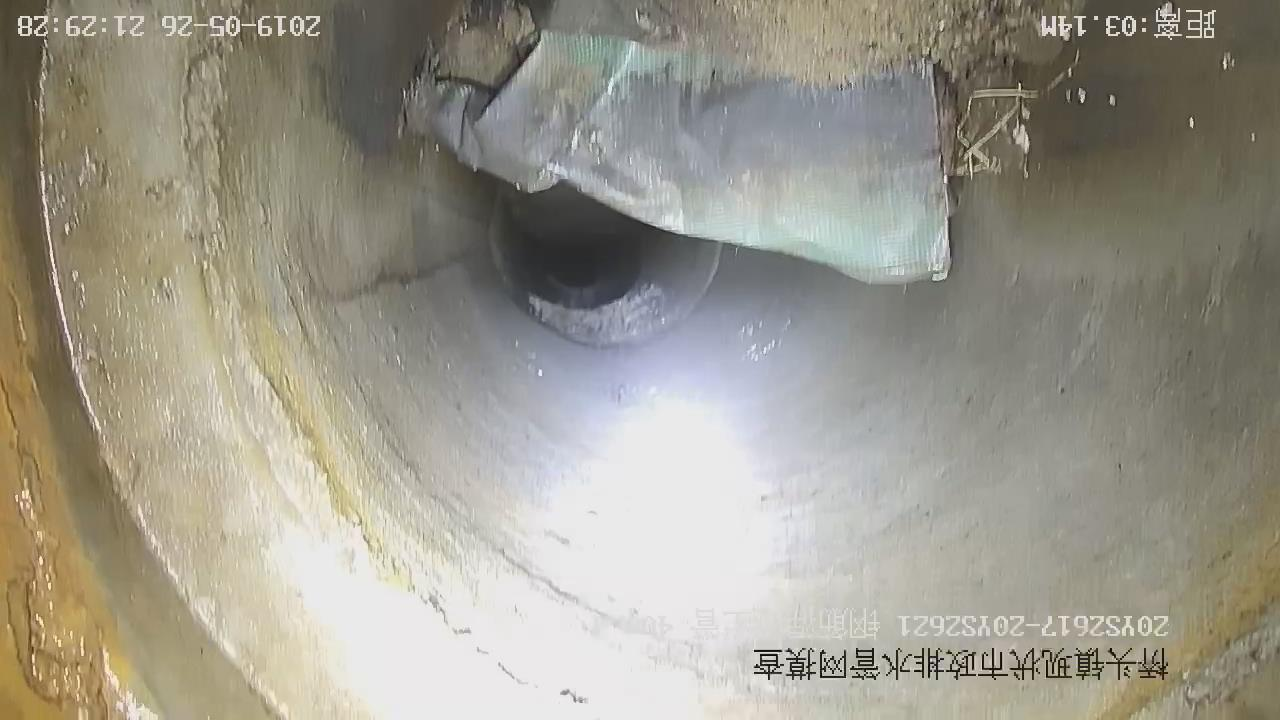ZAW: (405, 1, 949, 283)
